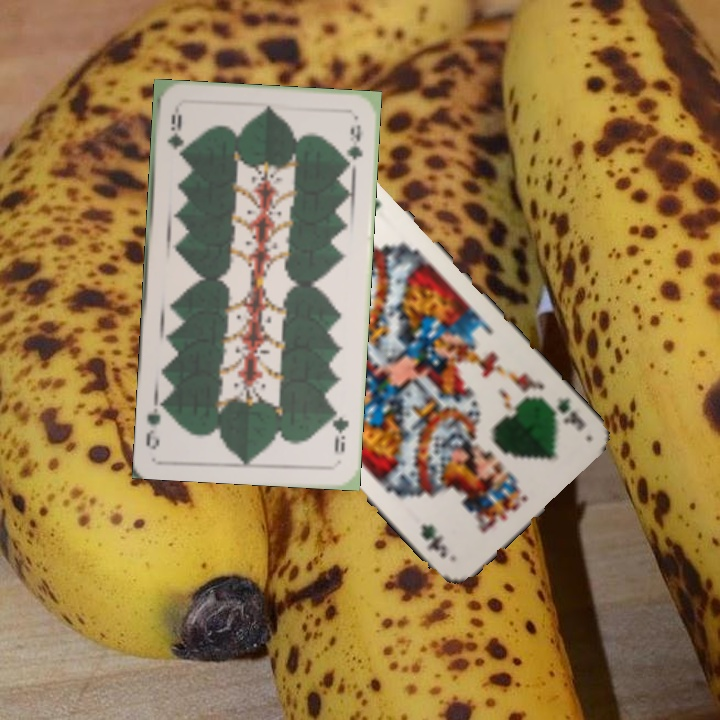G9: (328, 404, 351, 456), (163, 110, 185, 152)
GK: (553, 393, 588, 434)
